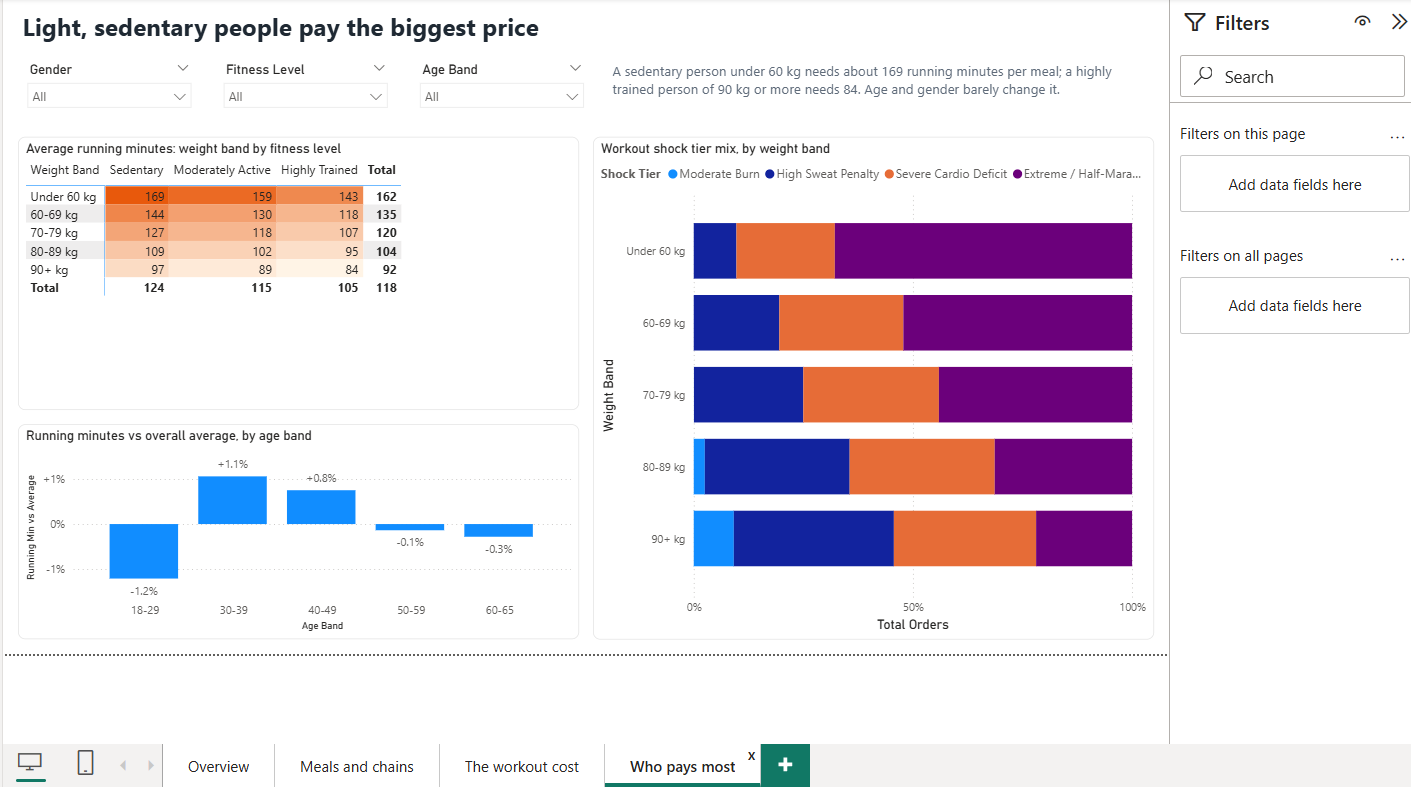

This screenshot's page, from the dashboard's own definition file:
{"tool":"powerbi","page":{"name":"Who pays most","canvas":[1280,720],"ordinal":3},"visuals":[{"type":"textbox","box":[16,8,1248,48],"z":27000},{"type":"slicer","fields":{"Values":["DimGender.Gender"]},"box":[16,64,200,72],"z":28000},{"type":"slicer","fields":{"Values":["DimFitness.Fitness Level"]},"box":[232,64,200,72],"z":29000},{"type":"slicer","fields":{"Values":["DimAgeBand.Age Band"]},"box":[448,64,200,72],"z":30000},{"type":"textbox","box":[664,64,600,72],"z":31000},{"type":"pivotTable","title":"Average running minutes: weight band by fitness level","fields":{"Columns":["DimFitness.Fitness Level"],"Rows":["DimWeightBand.Weight Band"],"Values":["FactOrders.Avg Running Min"]},"box":[16,152,616,300],"z":32000},{"type":"hundredPercentStackedBarChart","title":"Workout shock tier mix, by weight band","fields":{"Category":["DimWeightBand.Weight Band"],"Series":["DimShockTier.Shock Tier"],"Y":["FactOrders.Total Orders"]},"box":[648,152,616,552],"z":33000},{"type":"clusteredColumnChart","title":"Running minutes vs overall average, by age band","fields":{"Category":["DimAgeBand.Age Band"],"Y":["FactOrders.Running Min vs Average"]},"box":[16,468,616,236],"z":34000}]}

Visuals, with their boxes on the page's 1280x720 design canvas (x1, y1, x2, y2). These are canvas units, not pixel positions in the 1411x787 screenshot, which may show the page scaled, cropped or inside an application window:
textbox: <box>16,8,1264,56</box>
slicer - DimGender.Gender: <box>16,64,216,136</box>
slicer - DimFitness.Fitness Level: <box>232,64,432,136</box>
slicer - DimAgeBand.Age Band: <box>448,64,648,136</box>
textbox: <box>664,64,1264,136</box>
"Average running minutes: weight band by fitness level" pivotTable: <box>16,152,632,452</box>
"Workout shock tier mix, by weight band" hundredPercentStackedBarChart: <box>648,152,1264,704</box>
"Running minutes vs overall average, by age band" clusteredColumnChart: <box>16,468,632,704</box>
